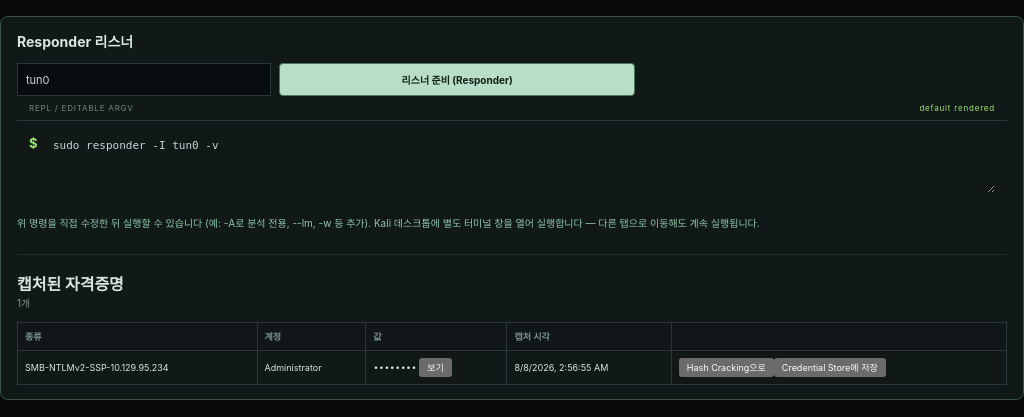
Test: polls captured credentials for this target and masks them until revealed
Expected: the text "Administrator" is shown, [257,350,366,384]
Expected: the text "••••••••" is shown, [373,363,417,373]
Click the button "보기": {"x": 436, "y": 368} [419,358,452,377]
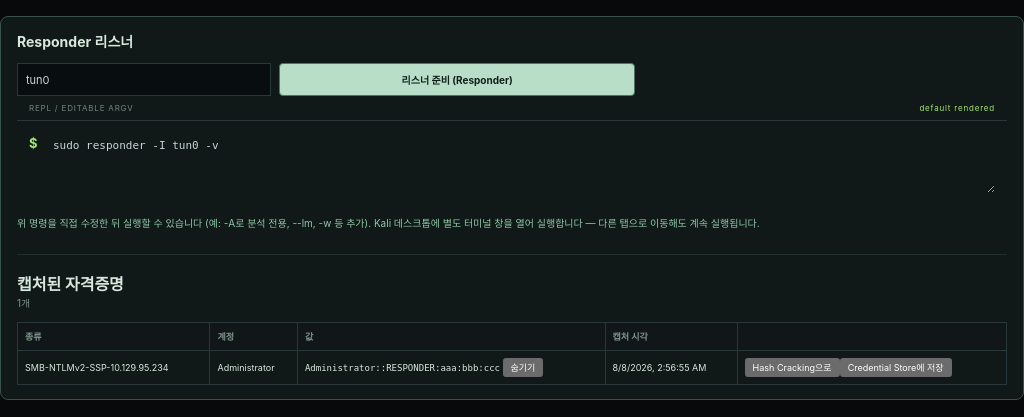
Expected: the text "Administrator::RESPONDER:aaa:bbb:ccc" is shown, [305,363,500,373]
